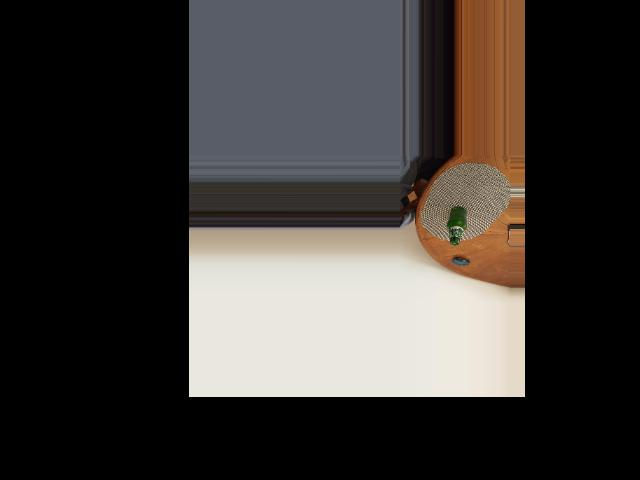beer: (446, 206, 468, 245)
